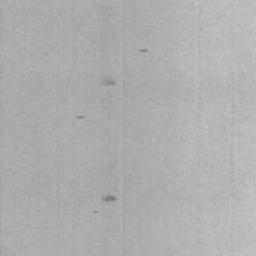Oil spot: (99, 193, 119, 205), (100, 74, 116, 87), (134, 49, 150, 54)
